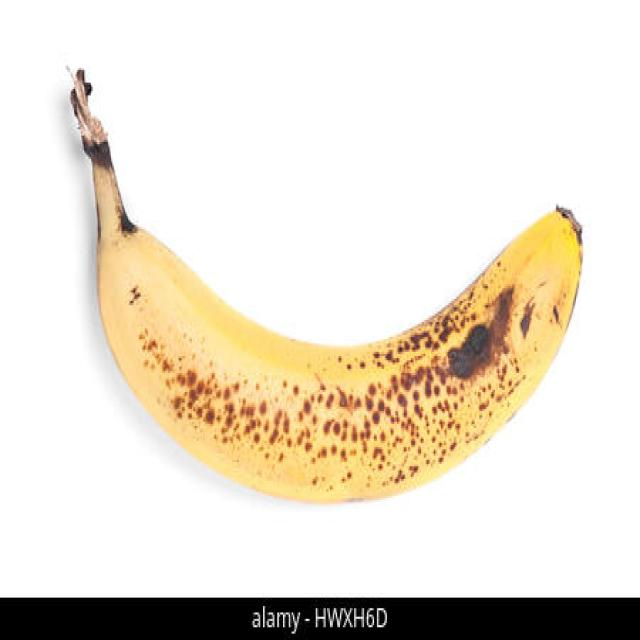overripe: (84, 128, 587, 510)
